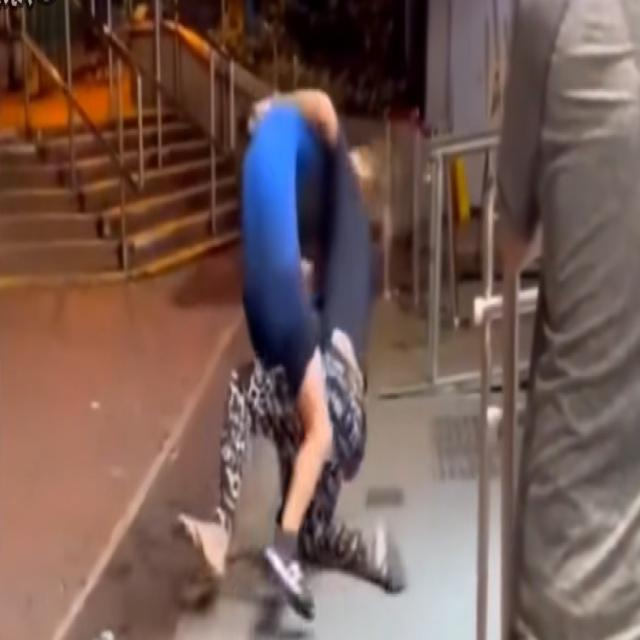fight: (178, 87, 402, 628)
